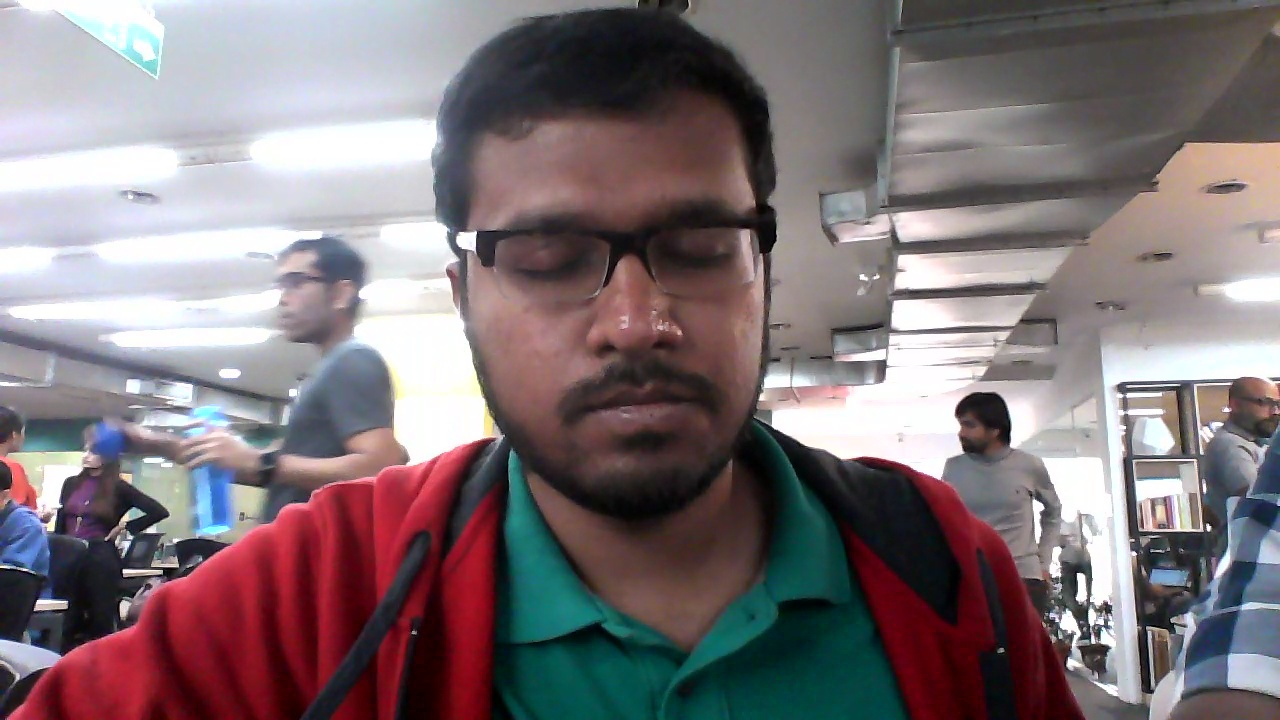closed: (430, 11, 788, 527)
